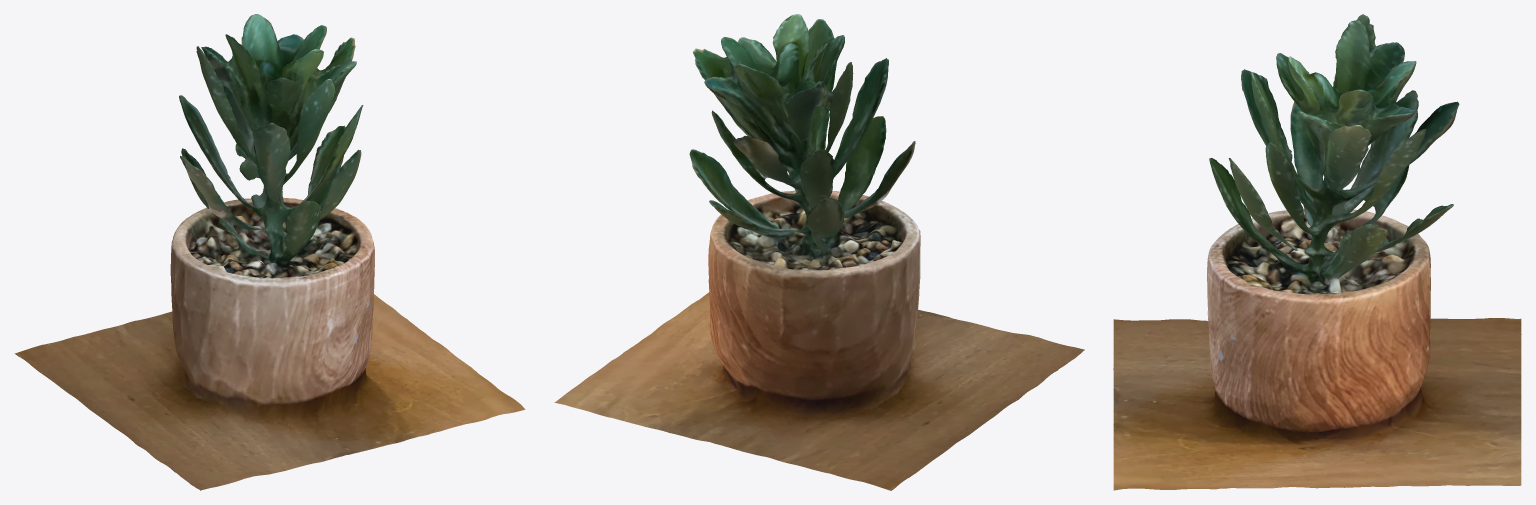
The model's file is house_plant_001_petitesmall_still_life.glb.
3 renders of one model, left to right at view 1: azimuth 30°, elevation 25°; view 2: azimuth 150°, elevation 25°; view 3: azimuth 270°, elevation 25°, orthographic. The views are drawn at different scales.
Visible parts, largest first — view 1: Object_4; view 2: Object_4; view 3: Object_4.
Boxes of the visible parts, x1,y1,x2,y2 form: Object_4: (14,14,525,490); Object_4: (554,14,1084,490); Object_4: (1113,14,1521,490).
Bounding box in the file's own units: 0.5017 × 0.5051 × 0.4988.
1 material, 1 textured.
